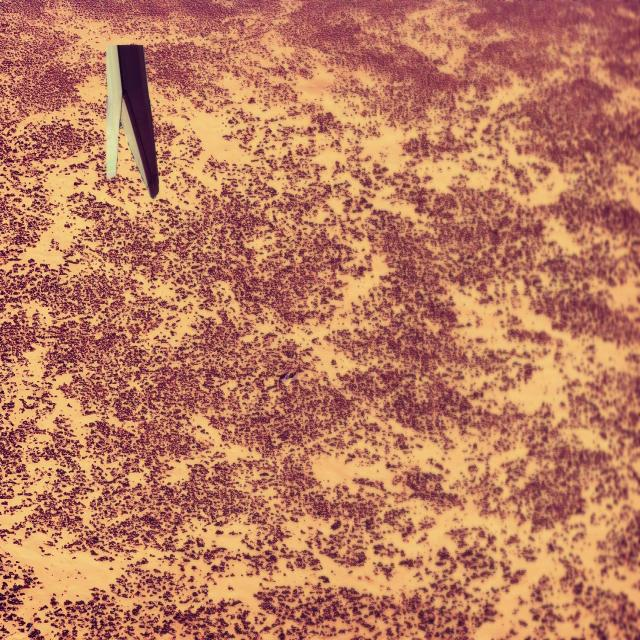airplane: (105, 43, 159, 198)
